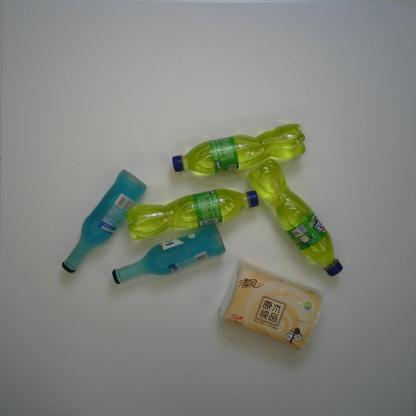Alcohol: (60, 170, 148, 274), (110, 222, 226, 286)
Drink: (247, 156, 346, 276), (168, 118, 310, 177), (125, 188, 259, 243)
Tissue: (218, 256, 322, 352)
